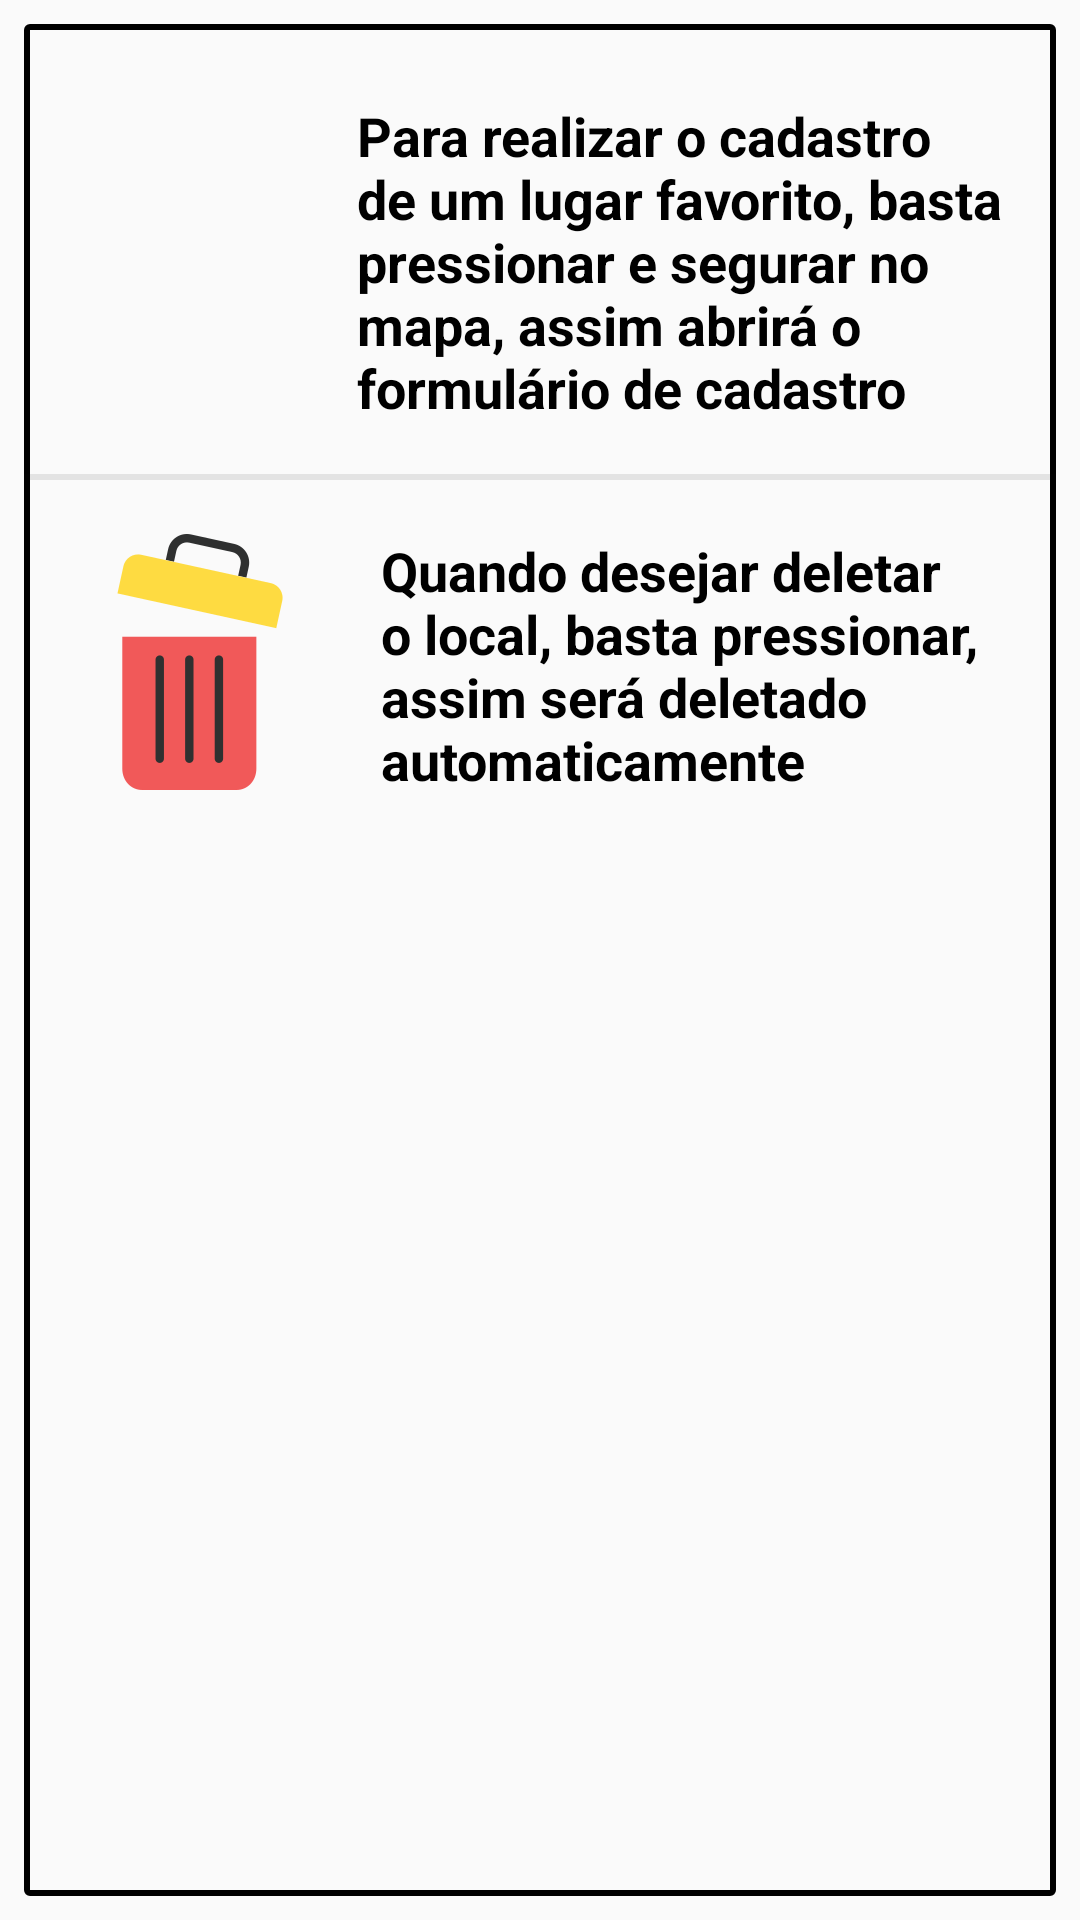

Where to tap for icons on this 1080px×1920px app screen, as [x,y]:
recycle bin: [200,662]
